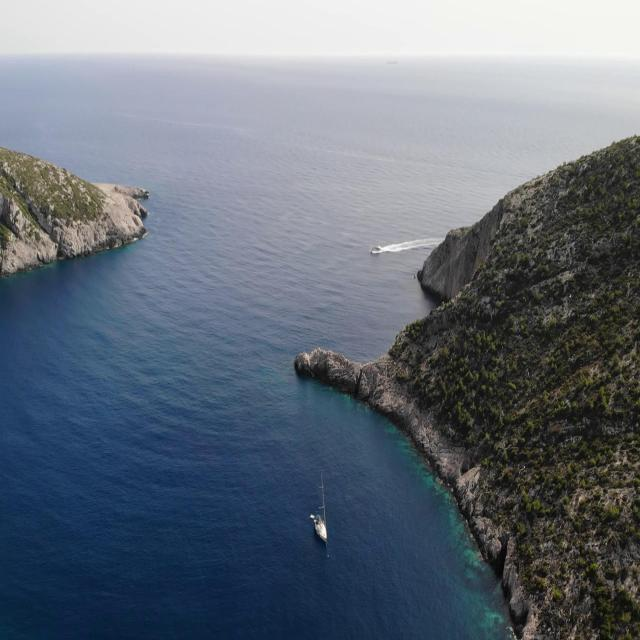sailboat: (311, 471, 329, 541), (311, 471, 329, 541)
